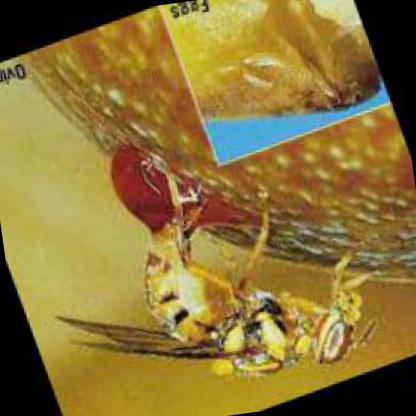fruit fly: (61, 207, 373, 375)
